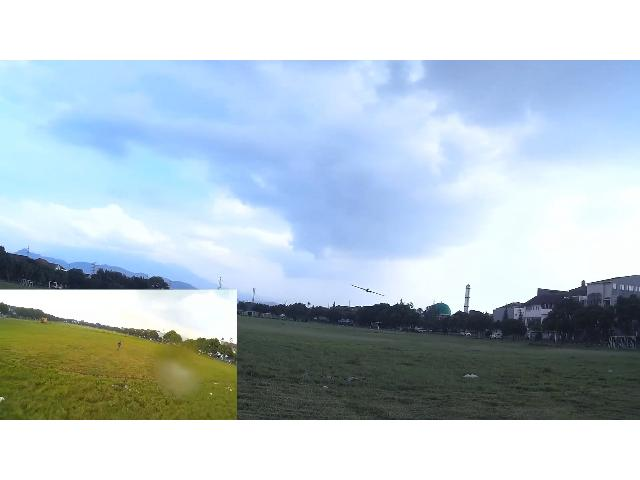Anti-Drone: (351, 284, 385, 296)
